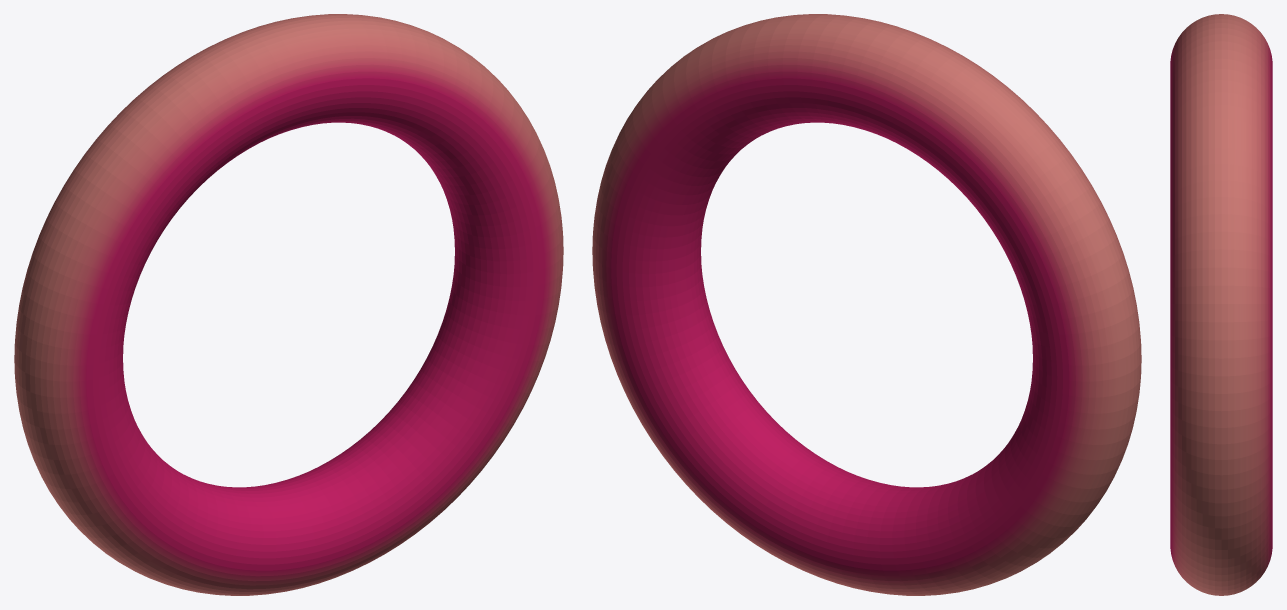
The picture shows the model from 3 angles, left to right: view 1: azimuth 30°, elevation 25°; view 2: azimuth 150°, elevation 25°; view 3: azimuth 270°, elevation 25°; orthographic projection. The views are drawn at different scales.
Parts seen in each view (by area): view 1: world; view 2: world; view 3: world.
Part boxes in pixels (bbox=[...]): world: bbox=[14, 14, 563, 595]; world: bbox=[592, 14, 1141, 595]; world: bbox=[1170, 14, 1272, 595].
Size of the model in its own units: 35.6 by 35.6 by 6.25.
